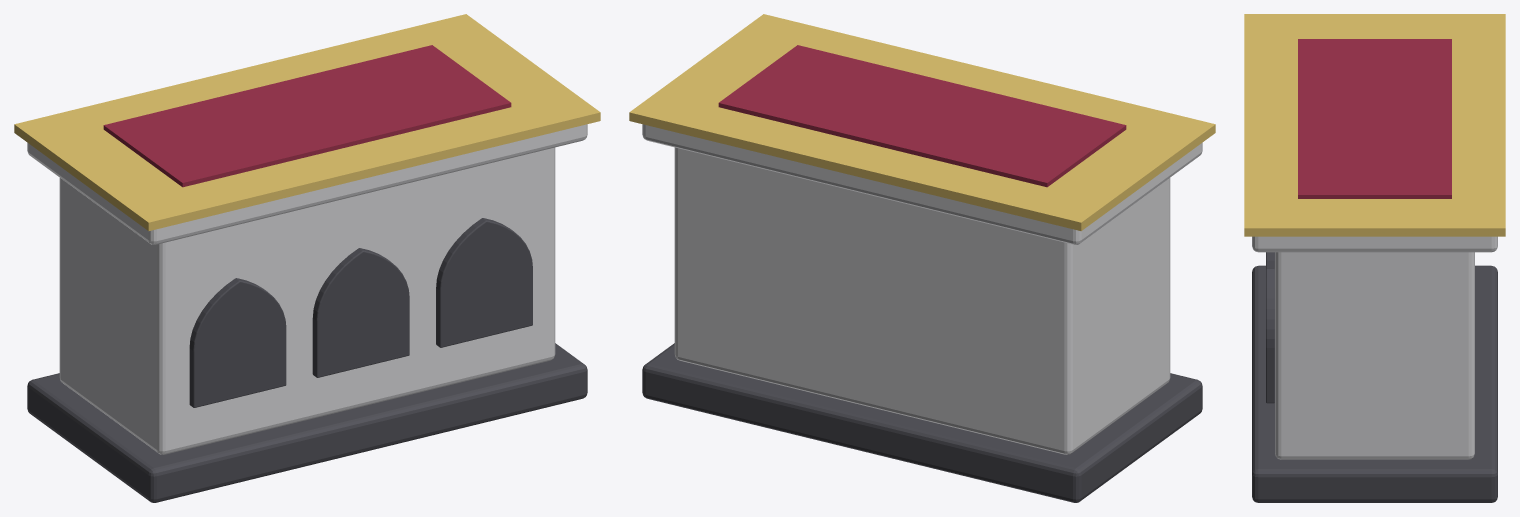
Rendered from altar_reliquary_altar.glb.
3 views of the same model, side by side, from view 1: azimuth 30°, elevation 25°; view 2: azimuth 150°, elevation 25°; view 3: azimuth 270°, elevation 25° (orthographic). The views are drawn at different scales.
Visible parts, largest first — view 1: GD_altar_reliquary_altar__m1, GD_altar_reliquary_altar__m0, GD_altar_reliquary_altar__m3, GD_altar_reliquary_altar__m2; view 2: GD_altar_reliquary_altar__m1, GD_altar_reliquary_altar__m3, GD_altar_reliquary_altar__m2, GD_altar_reliquary_altar__m0; view 3: GD_altar_reliquary_altar__m1, GD_altar_reliquary_altar__m3, GD_altar_reliquary_altar__m2, GD_altar_reliquary_altar__m0.
Part boxes in pixels (box(x1,y1,x2,y2)): GD_altar_reliquary_altar__m1: box(27, 124, 587, 454); GD_altar_reliquary_altar__m0: box(27, 218, 587, 502); GD_altar_reliquary_altar__m3: box(14, 14, 600, 230); GD_altar_reliquary_altar__m2: box(103, 45, 511, 187); GD_altar_reliquary_altar__m1: box(642, 124, 1202, 454); GD_altar_reliquary_altar__m3: box(629, 14, 1215, 230); GD_altar_reliquary_altar__m2: box(718, 45, 1126, 187); GD_altar_reliquary_altar__m0: box(642, 343, 1202, 502); GD_altar_reliquary_altar__m1: box(1252, 236, 1497, 459); GD_altar_reliquary_altar__m3: box(1244, 14, 1505, 236); GD_altar_reliquary_altar__m2: box(1298, 39, 1451, 198); GD_altar_reliquary_altar__m0: box(1252, 252, 1497, 502).
Bounding box in the file's own units: 1.65 × 1.02 × 0.85.
